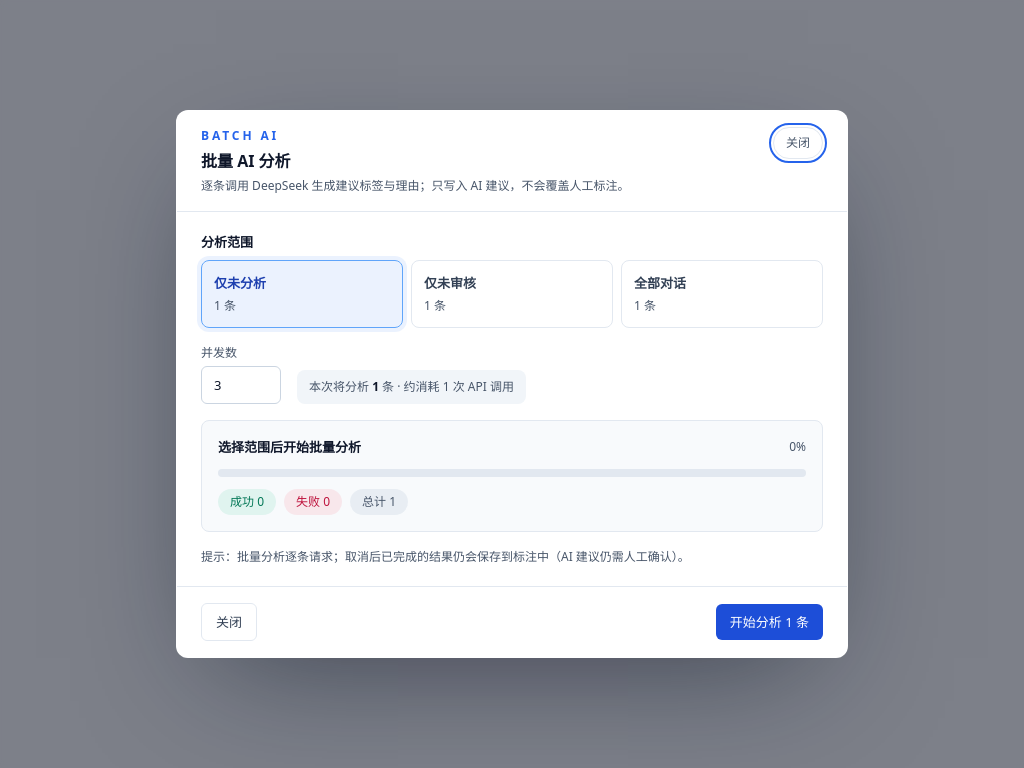
Test case: BatchAnalysisPanel 分析结果 › 网络异常 → 计为失败项，整体仍展示分析完成
Click the button "开始分析 1 条".
click(769, 622)  # box top-left (716, 604), bottom-right (823, 640)
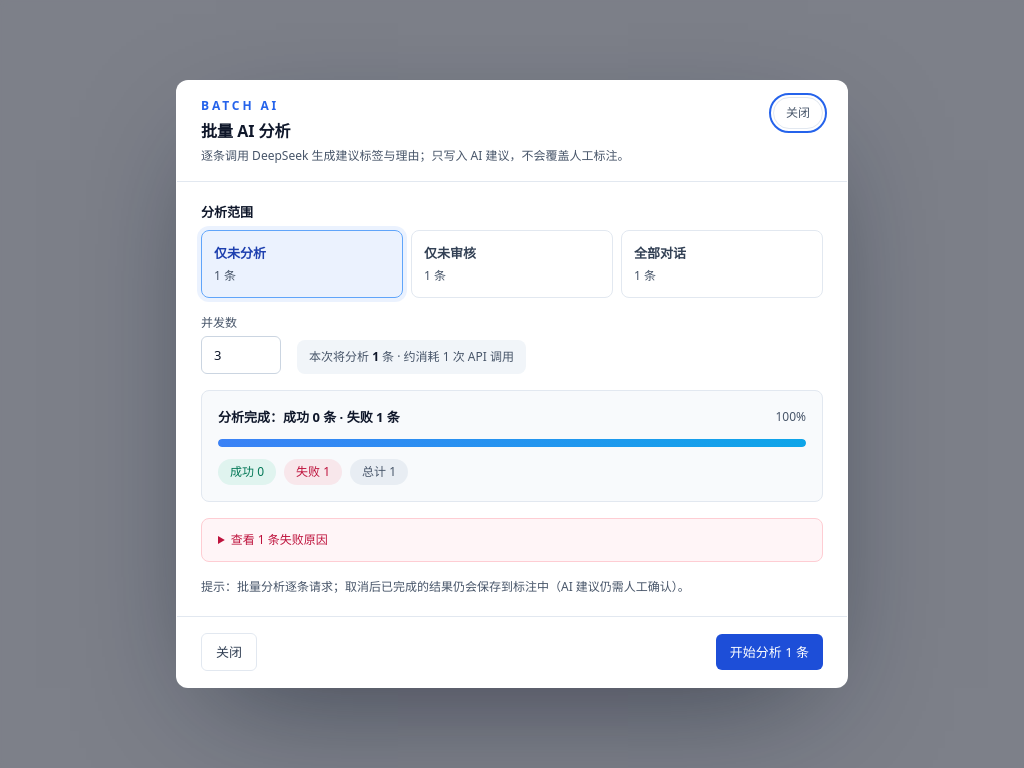
Expected: the text "分析完成：成功 0 条 · 失败 1 条" is shown, top-left (218, 407), bottom-right (400, 427)
Expected: the heading "查看 1 条失败原因" is shown, top-left (231, 531), bottom-right (328, 548)
